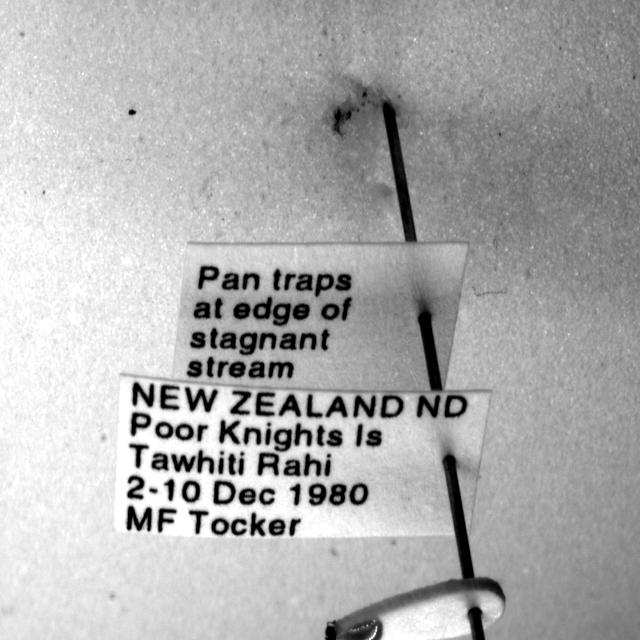typed_label: (115, 375, 490, 538), (174, 242, 469, 392)
